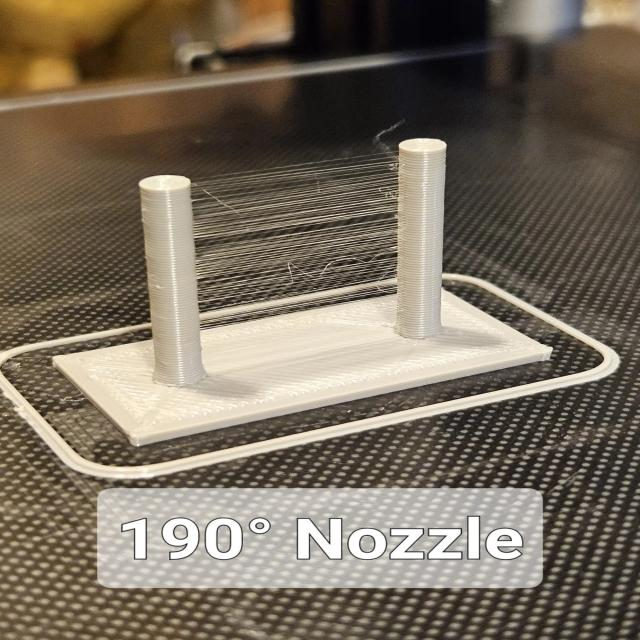Stringing: (198, 156, 395, 315)
